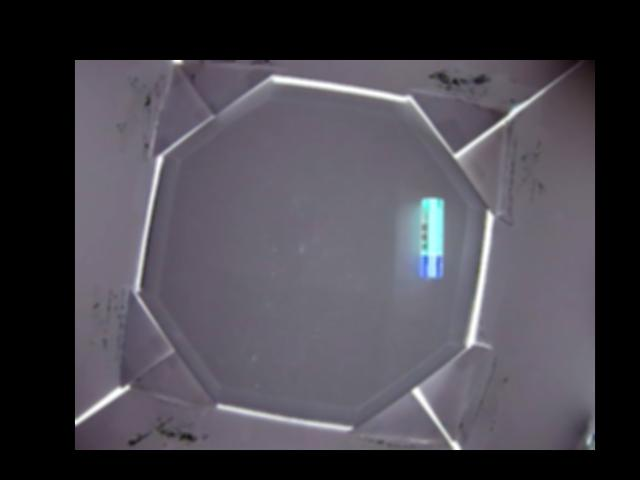Battery: (419, 196, 444, 280)
